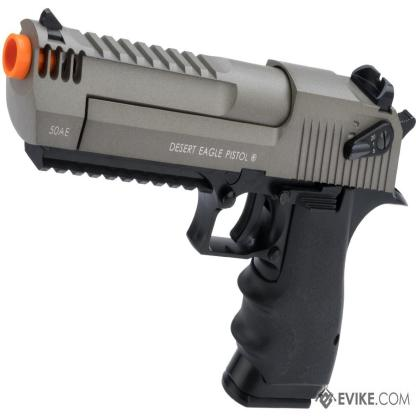handgun: (0, 4, 416, 409)
